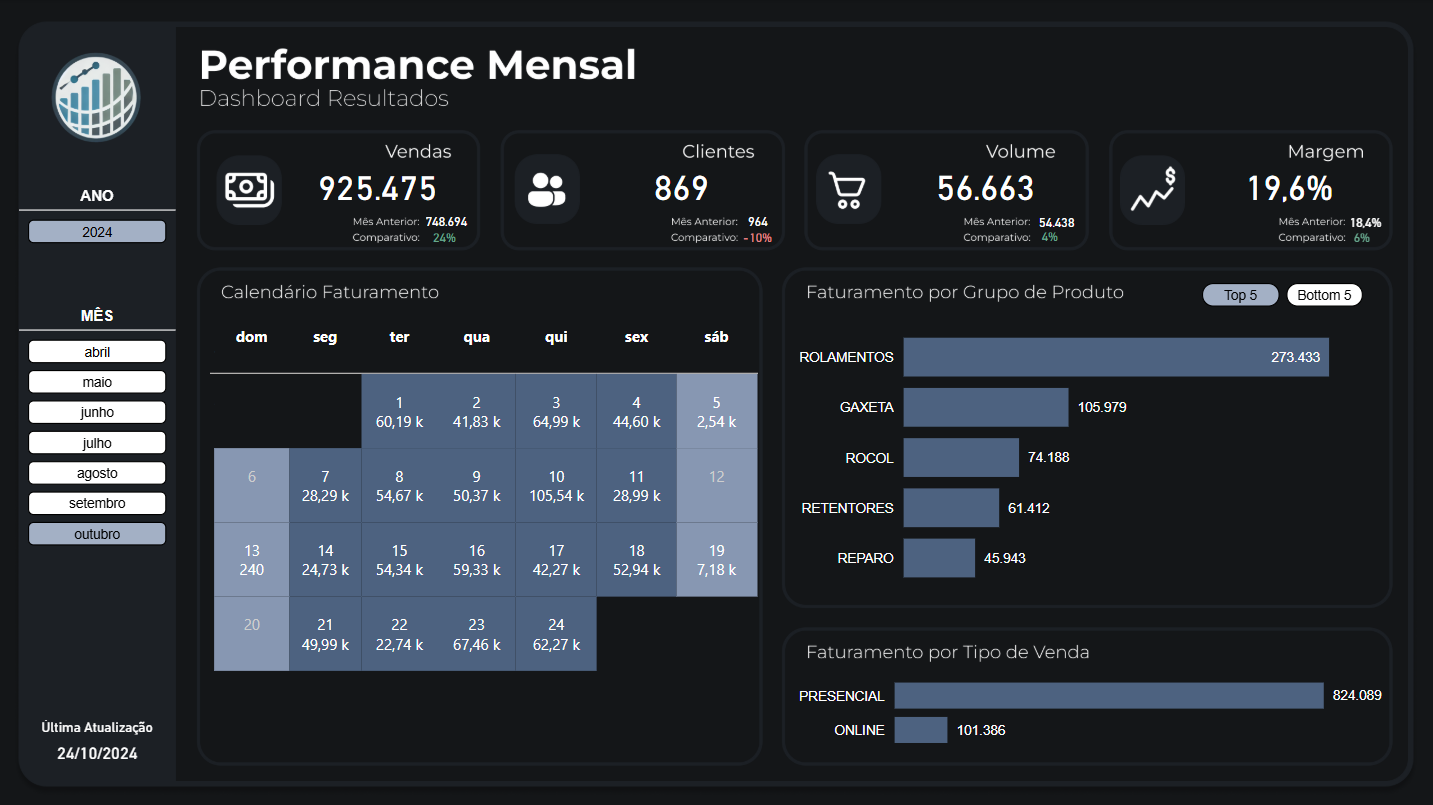

This screenshot's page, from the dashboard's own definition file:
{"tool":"powerbi","page":{"name":"Resumo","canvas":[1280,720],"ordinal":0},"visuals":[{"type":"image","title":"Logo","box":[20.4,20.4,138.7,137.8],"z":0},{"type":"ChicletSlicer1448559807354","title":"MÊS","fields":{"Category":["Dim_Calendario.Nome Mês"]},"box":[20.4,273.8,138.7,348.4],"z":1000},{"type":"ChicletSlicer1448559807354","title":"ANO","fields":{"Category":["Dim_Calendario.Ano"]},"box":[20.4,167.1,138.7,80.9],"z":2000},{"type":"card","fields":{"Values":["Medidas.Sum_Faturamento"]},"box":[252.8,146.9,173.8,39],"z":3000},{"type":"card","fields":{"Values":["Medidas.Cont_Clientes"]},"box":[520,147,178,39],"z":4000},{"type":"card","fields":{"Values":["Medidas.Sum_Produtos"]},"box":[788,147,181,39],"z":5000},{"type":"pivotTable","title":"Calendário de Vendas","fields":{"Rows":["Dim_Calendario.Semana"],"Columns":["Dim_Calendario.DiaSemana"],"Values":["Medidas.Calendario Vendas"]},"box":[185.3,270.4,497.8,410.5],"z":6000},{"type":"clusteredBarChart","title":"FATURAMENTO POR TIPO DE VENDA","fields":{"Category":["Dim_TipoVenda.Tipo"],"Y":["Medidas.Sum_Faturamento"]},"box":[706,567,534,128],"z":7000},{"type":"clusteredBarChart","title":"FATURAMENTO POR GRUPO DE PRODUTOS","fields":{"Y":["Medidas.FaturamentoTop10"],"Category":["Dim_Grupo.GRUPO"]},"box":[706,270,534,268],"z":8000},{"type":"card","title":"Última Atualização","fields":{"Values":["Medidas.Last_Att"]},"box":[20,641,139,48],"z":9000},{"type":"ChicletSlicer1448559807354","fields":{"Category":["GruposProdutos.Tipo"]},"box":[1064,244,159,41],"z":10000},{"type":"card","fields":{"Values":["Medidas.Sum_Faturamento_M-1"]},"box":[375,184,50,23],"z":11000},{"type":"card","fields":{"Values":["Medidas.Cont_Clientes_M-1"]},"box":[656,184,42,23],"z":12000},{"type":"card","fields":{"Values":["Medidas.% Clientes"]},"box":[655.5,197.3,42.7,20.9],"z":13000},{"type":"card","fields":{"Values":["Medidas.Sum_Produtos_M-1"]},"box":[916,185,52,23],"z":14000},{"type":"card","fields":{"Values":["Medidas.% Prod"]},"box":[915.3,196.7,42,20.7],"z":15000},{"type":"card","fields":{"Values":["Medidas.% Faturamento"]},"box":[377,197,43,21],"z":16000},{"type":"card","fields":{"Values":["Medidas.Margem"]},"box":[1058.7,146.9,180.8,38.6],"z":17000},{"type":"card","fields":{"Values":["Medidas.% Margem"]},"box":[1192.7,197.3,42,20.7],"z":18000},{"type":"card","fields":{"Values":["Medidas.Margem M-1"]},"box":[1191.3,184.7,52,22.7],"z":19000}]}

Visuals, with their boxes in screenshot pixels (x1, y1, x2, y2), scaled from the page's 1280x720 canvas onto the 1433x805 screenshot:
"Logo" image: box(23, 23, 178, 177)
"MÊS" ChicletSlicer1448559807354: box(23, 306, 178, 696)
"ANO" ChicletSlicer1448559807354: box(23, 187, 178, 277)
card - Medidas.Sum_Faturamento: box(283, 164, 478, 208)
card - Medidas.Cont_Clientes: box(582, 164, 781, 208)
card - Medidas.Sum_Produtos: box(882, 164, 1085, 208)
"Calendário de Vendas" pivotTable: box(207, 302, 765, 761)
"FATURAMENTO POR TIPO DE VENDA" clusteredBarChart: box(790, 634, 1388, 777)
"FATURAMENTO POR GRUPO DE PRODUTOS" clusteredBarChart: box(790, 302, 1388, 602)
"Última Atualização" card: box(22, 717, 178, 770)
ChicletSlicer1448559807354 - GruposProdutos.Tipo: box(1191, 273, 1369, 319)
card - Medidas.Sum_Faturamento_M-1: box(420, 206, 476, 231)
card - Medidas.Cont_Clientes_M-1: box(734, 206, 781, 231)
card - Medidas.% Clientes: box(734, 221, 782, 244)
card - Medidas.Sum_Produtos_M-1: box(1025, 207, 1084, 233)
card - Medidas.% Prod: box(1025, 220, 1072, 243)
card - Medidas.% Faturamento: box(422, 220, 470, 244)
card - Medidas.Margem: box(1185, 164, 1388, 207)
card - Medidas.% Margem: box(1335, 221, 1382, 244)
card - Medidas.Margem M-1: box(1334, 207, 1392, 232)
